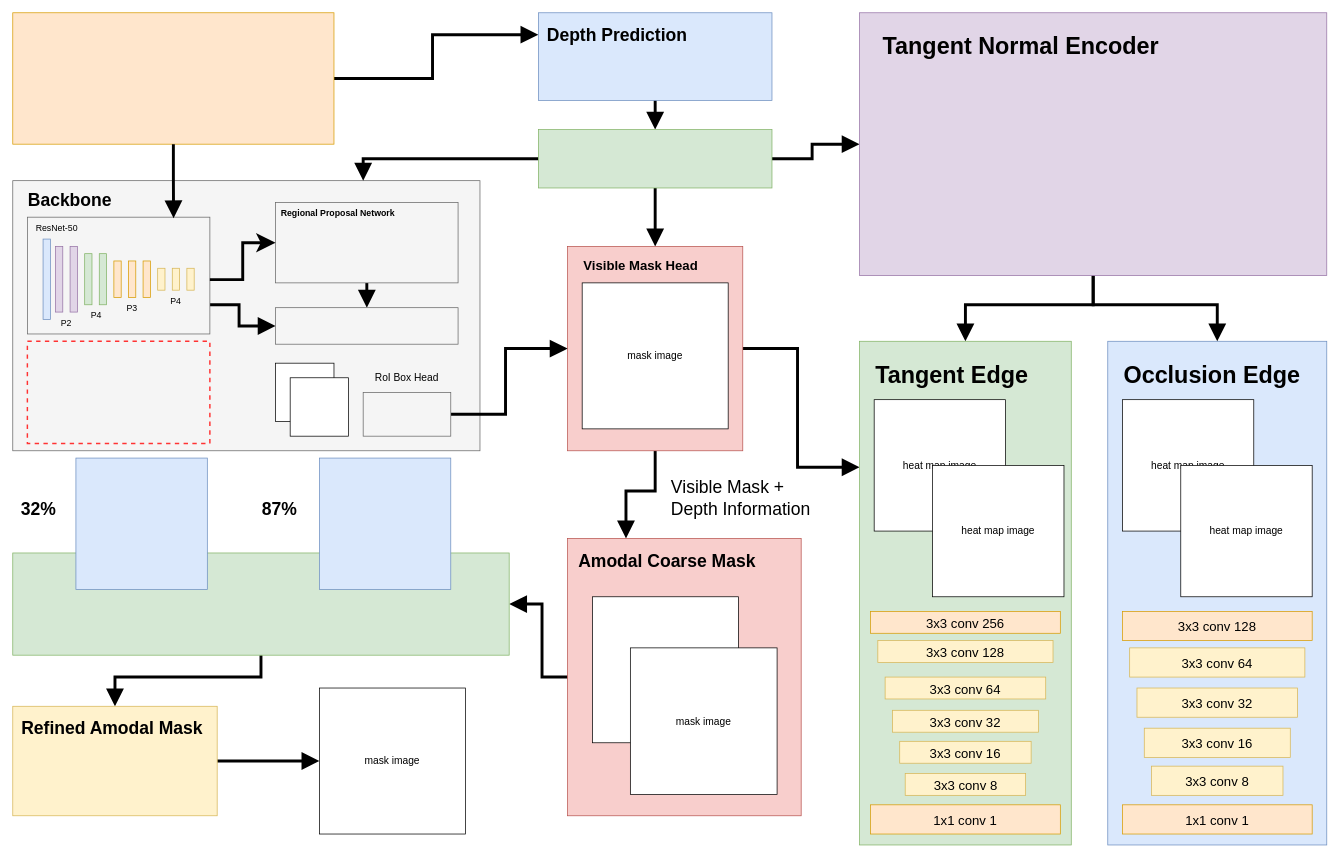
Image size: 1340x858. Some labels were removed from this diagram. The shapes that lost their labels are listed below. From the top down, each one's box as (x1, y1, x2, y2) in pixels, then its label:
(12, 12, 334, 144): RGB
(538, 129, 772, 188): Depth Normalization
(275, 307, 458, 344): RoI Pooling Layer
(26, 340, 210, 444): Depth-Aware Feature Extraction
(362, 392, 451, 436): conv2D
(12, 552, 509, 655): 3D Feature Matching Refinement
